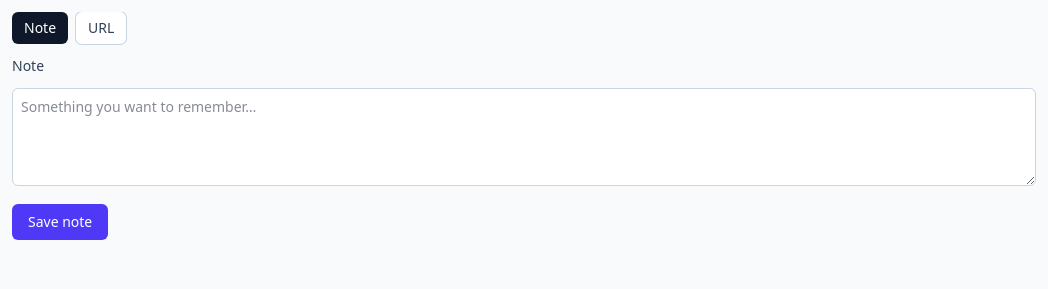
Scenario: AddItemForm › shows an error and does not submit an empty note
Click the button "Save note" at [60, 222], box [12,204,108,240]
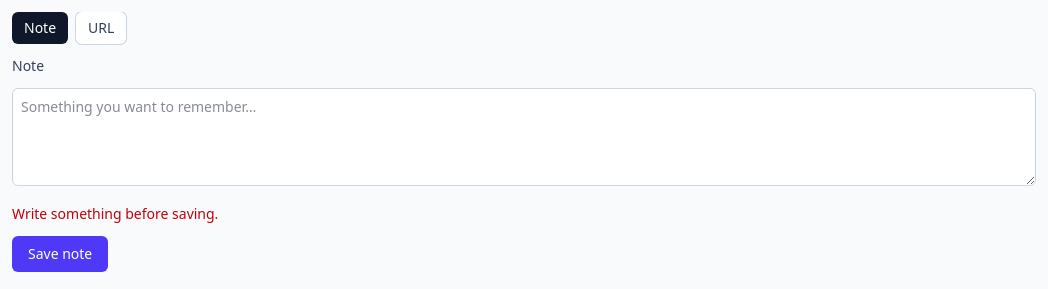
Expected: the message shows "Write something", [12,204,218,223]
